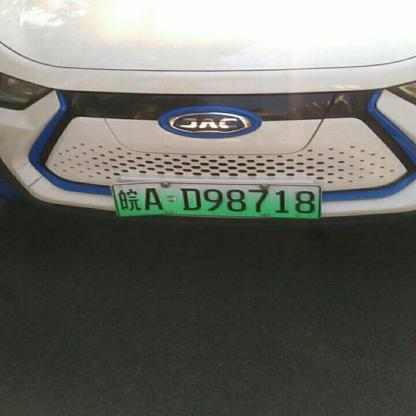lp: (113, 185, 319, 218)
